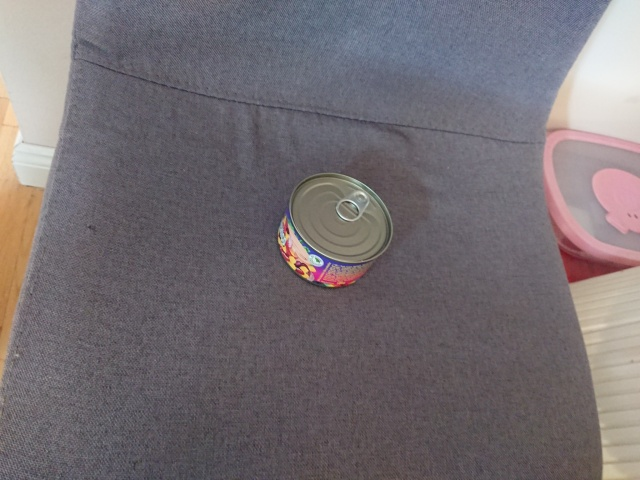Giana Tuna Salad Mexico 185g: (275, 169, 396, 292)
